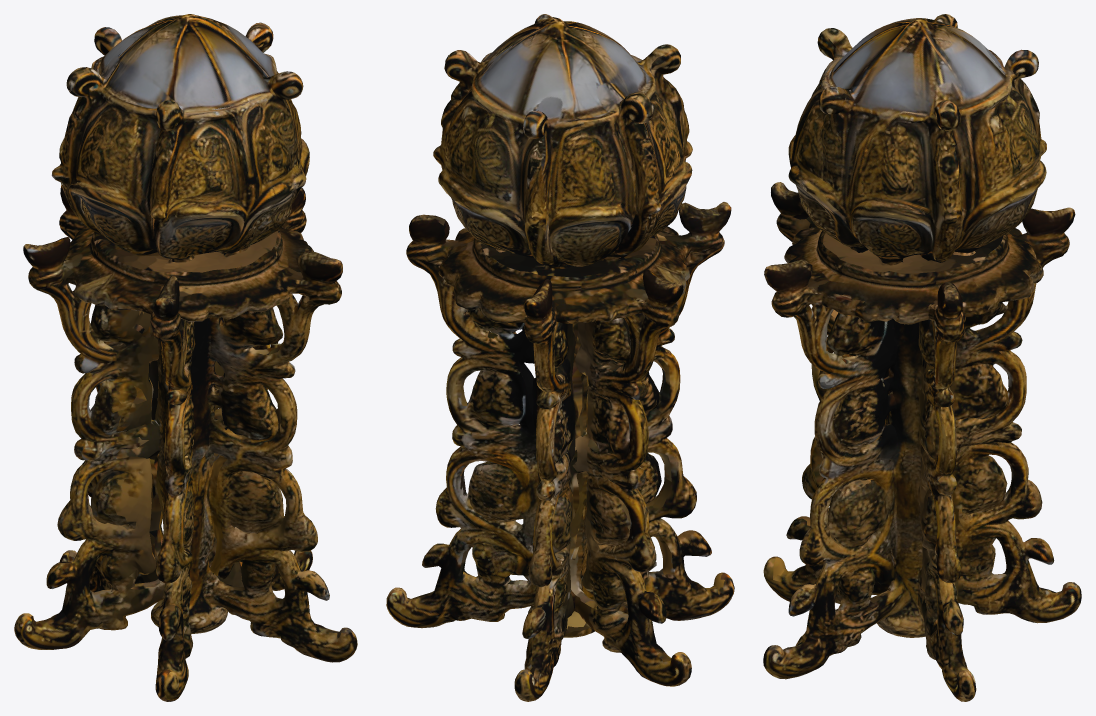
The picture shows the model from 3 angles, left to right: view 1: azimuth 30°, elevation 25°; view 2: azimuth 150°, elevation 25°; view 3: azimuth 270°, elevation 25°; orthographic projection.
Visible parts, largest first — view 1: textured_mesh; view 2: textured_mesh; view 3: textured_mesh.
Part boxes in pixels (bbox=[...]): textured_mesh: bbox=[14, 14, 357, 701]; textured_mesh: bbox=[386, 14, 734, 701]; textured_mesh: bbox=[763, 14, 1081, 701].
Size of the model in its own units: 1.01 by 1.99 by 0.9304.
Materials: 1 (1 with a texture image).
